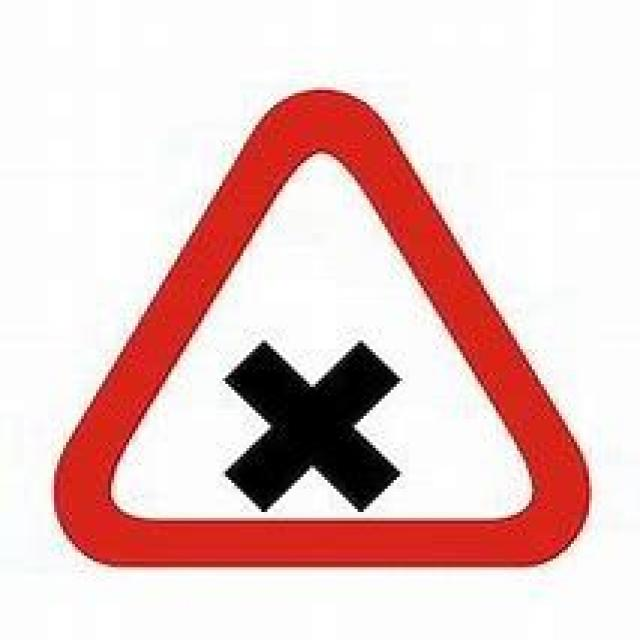CROSS_ROAD: (48, 84, 589, 579)
